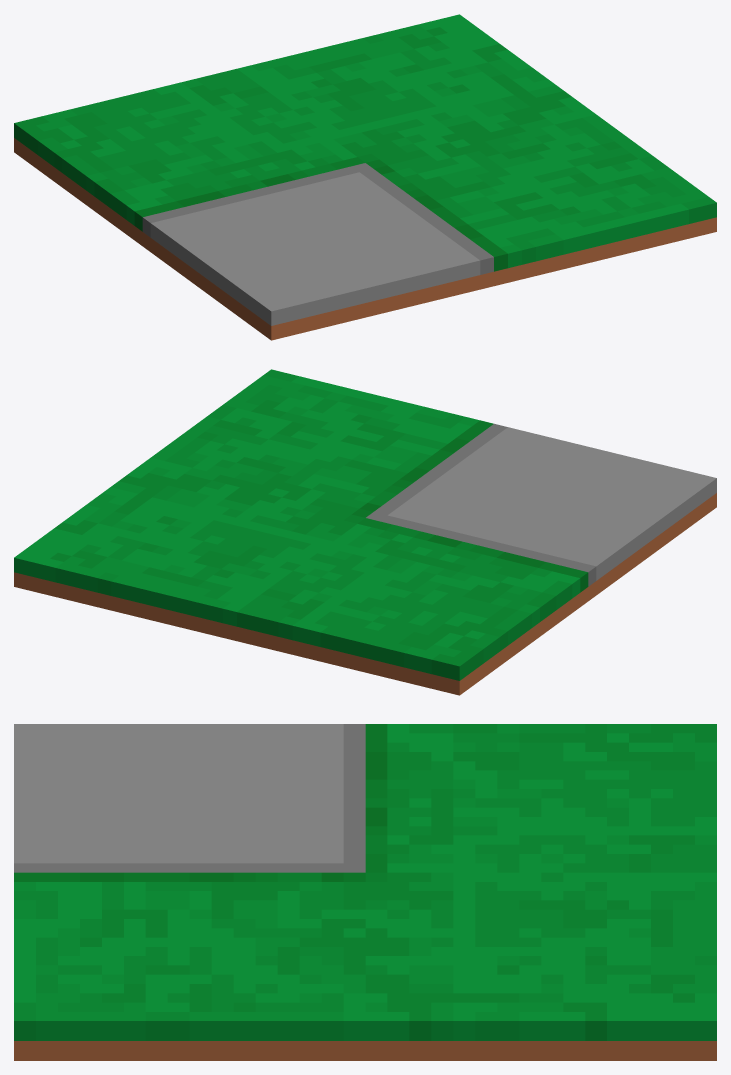
Rendered from forest-city-edgy-edge-inner-3.gltf.
The picture shows the model from 3 angles, top to bottom: view 1: azimuth 30°, elevation 25°; view 2: azimuth 150°, elevation 25°; view 3: azimuth 270°, elevation 25°; orthographic projection. The views are drawn at different scales.
Parts seen in each view (by area): view 1: forest-city-edgy-edge-inner-3; view 2: forest-city-edgy-edge-inner-3; view 3: forest-city-edgy-edge-inner-3.
Part boxes in pixels (<box>): forest-city-edgy-edge-inner-3: <box>14,14,716,340</box>; forest-city-edgy-edge-inner-3: <box>14,369,716,695</box>; forest-city-edgy-edge-inner-3: <box>14,724,716,1060</box>.
Bounding box in the file's own units: 3.2 × 0.2 × 3.2.
Materials: 1 (1 with a texture image).
